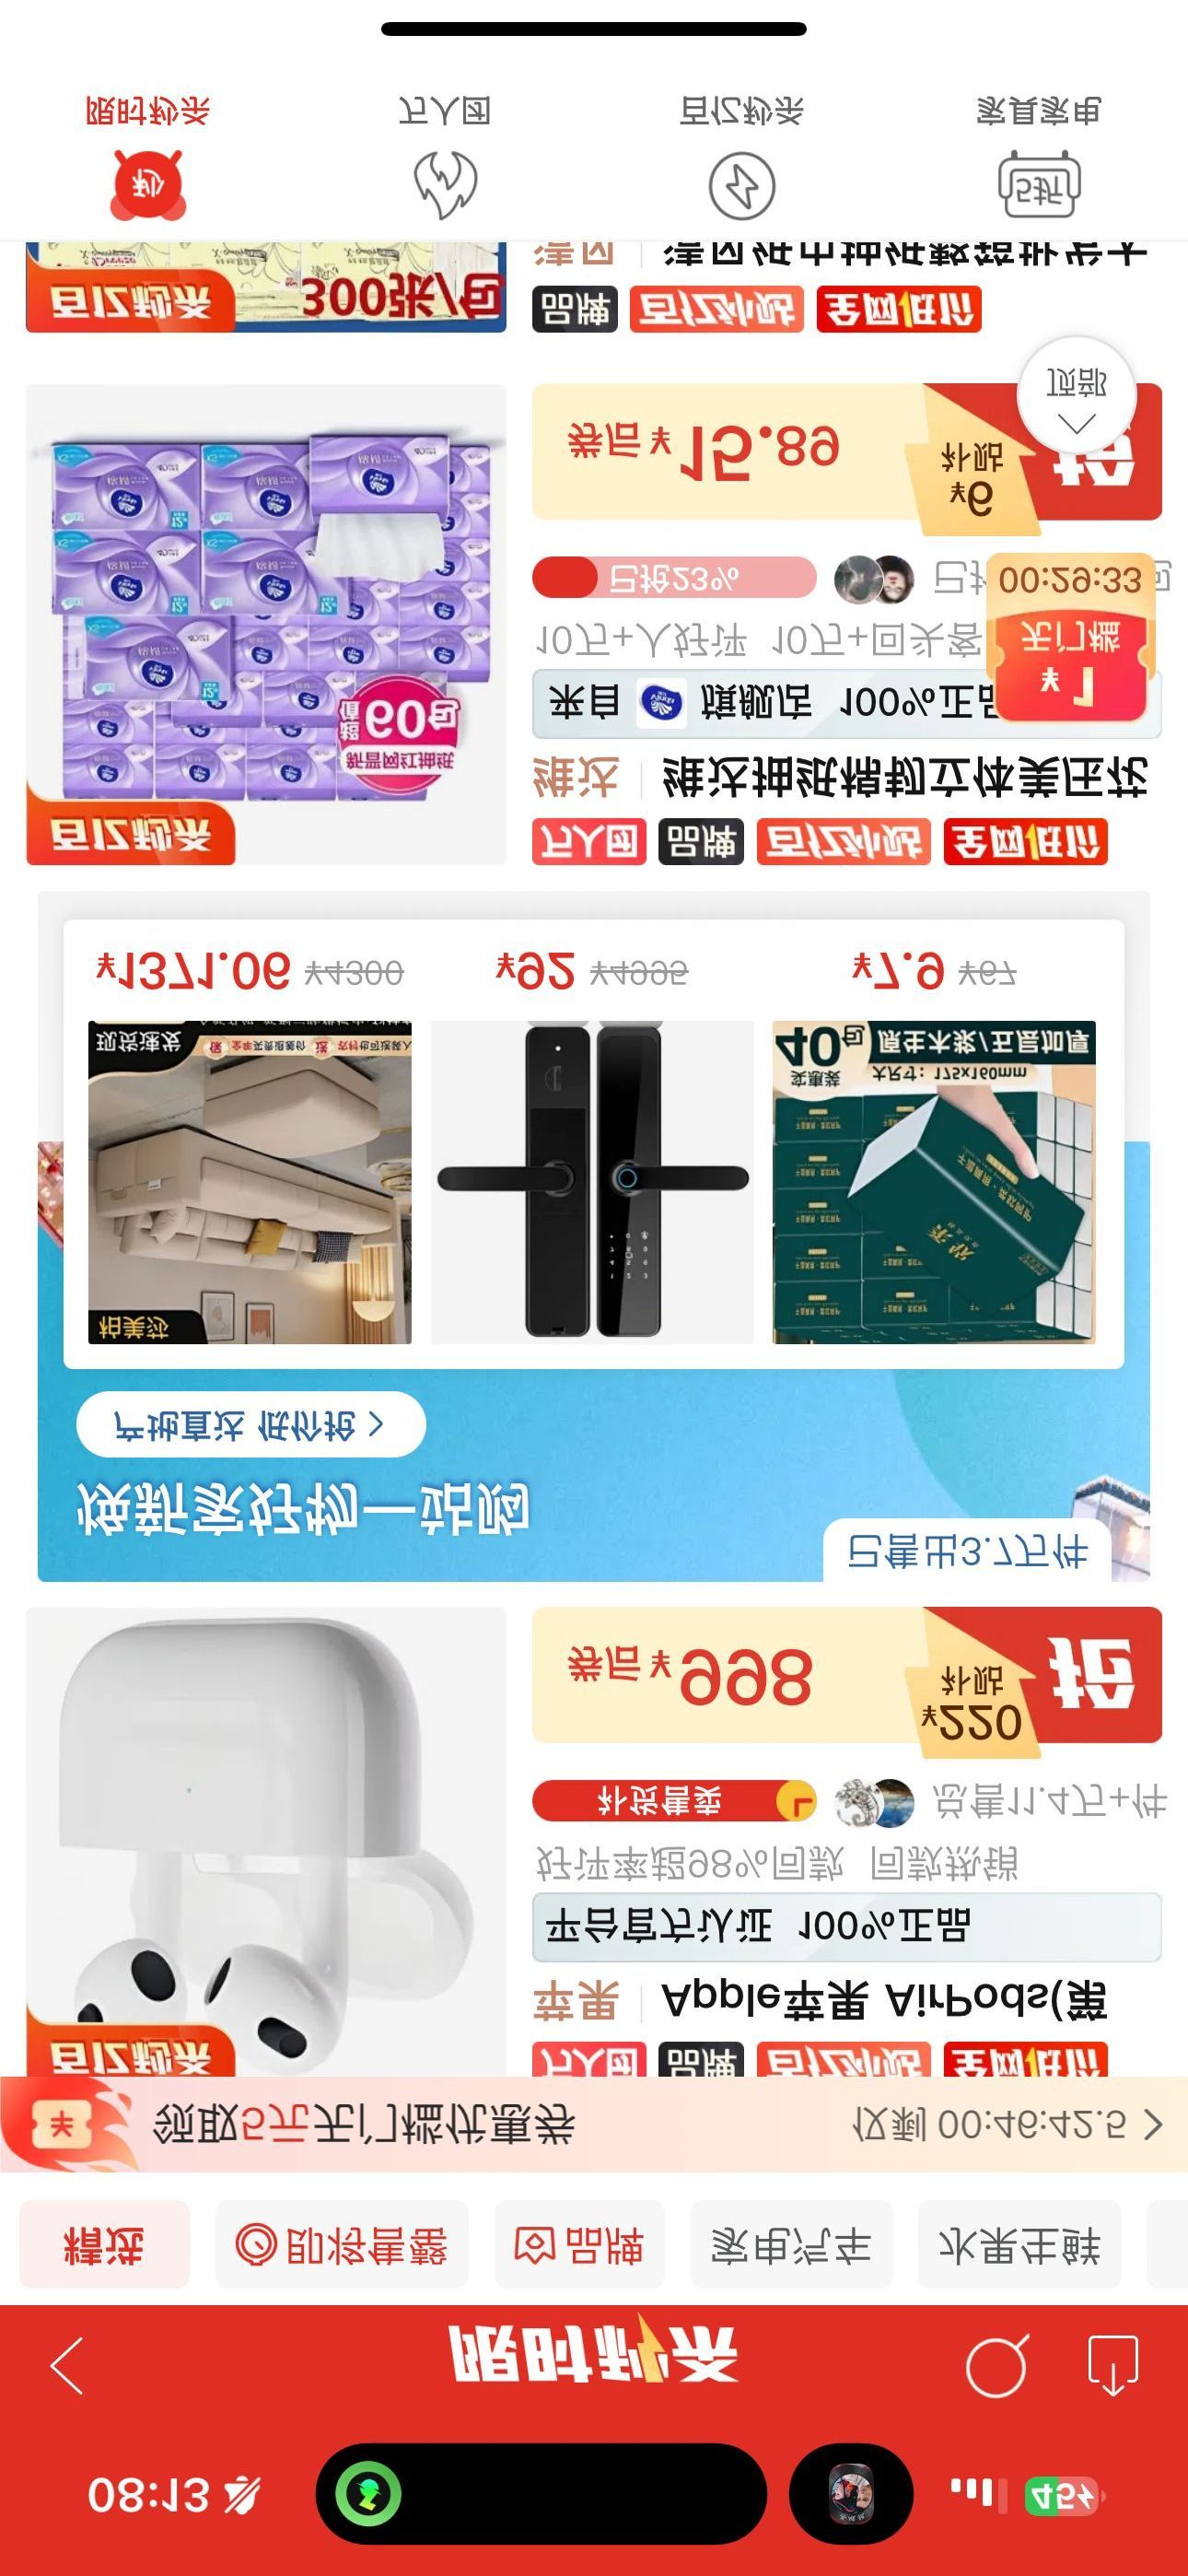banner: (3, 869, 1178, 1579), (2, 2085, 1183, 2178)
item: (2, 350, 1176, 854), (7, 1592, 1185, 2073)
op_bar: (2, 2318, 1188, 2422)
